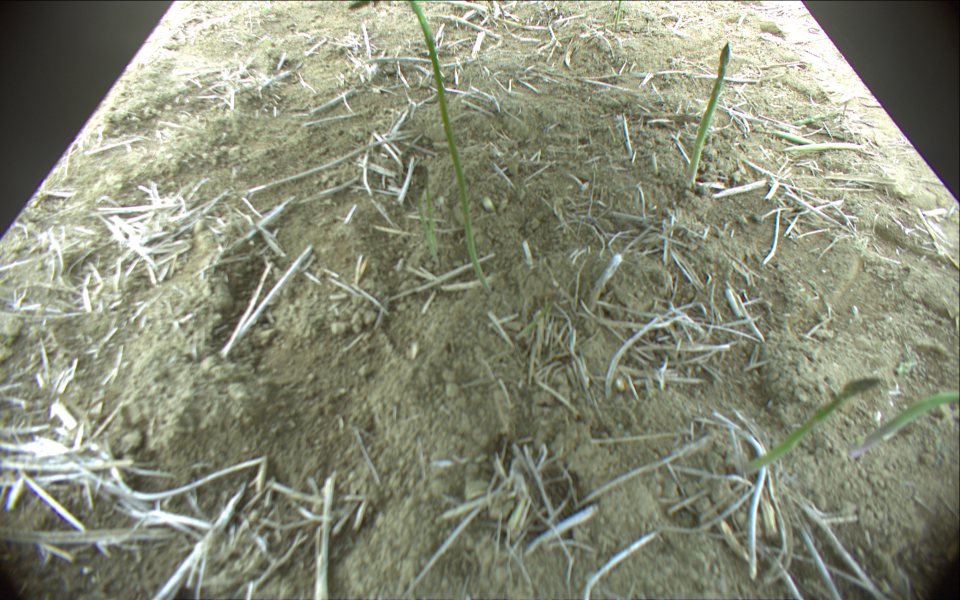aspa: (347, 1, 491, 287), (731, 374, 882, 477), (848, 389, 960, 460), (683, 40, 734, 191), (425, 176, 441, 264), (781, 142, 876, 155), (796, 111, 844, 127), (415, 189, 428, 246), (771, 128, 819, 143), (613, 1, 623, 32)
